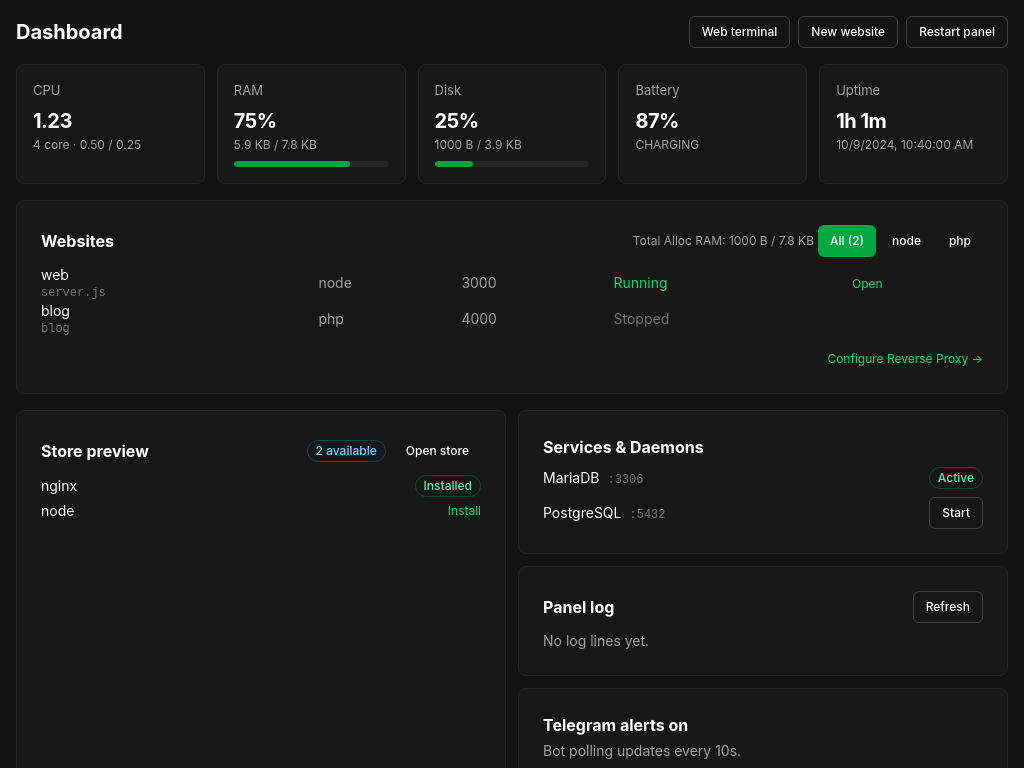
Test: web dashboard page › starts stopped daemons and surfaces errors
This screenshot has width=1024, height=768.
Expected: the text "MariaDB" is shown, x1=543 y1=468 x2=599 y2=486
Expected: the text "Active" is shown, x1=929 y1=466 x2=983 y2=488
Click the button "Start": [956, 512] box x1=929 y1=496 x2=983 y2=528
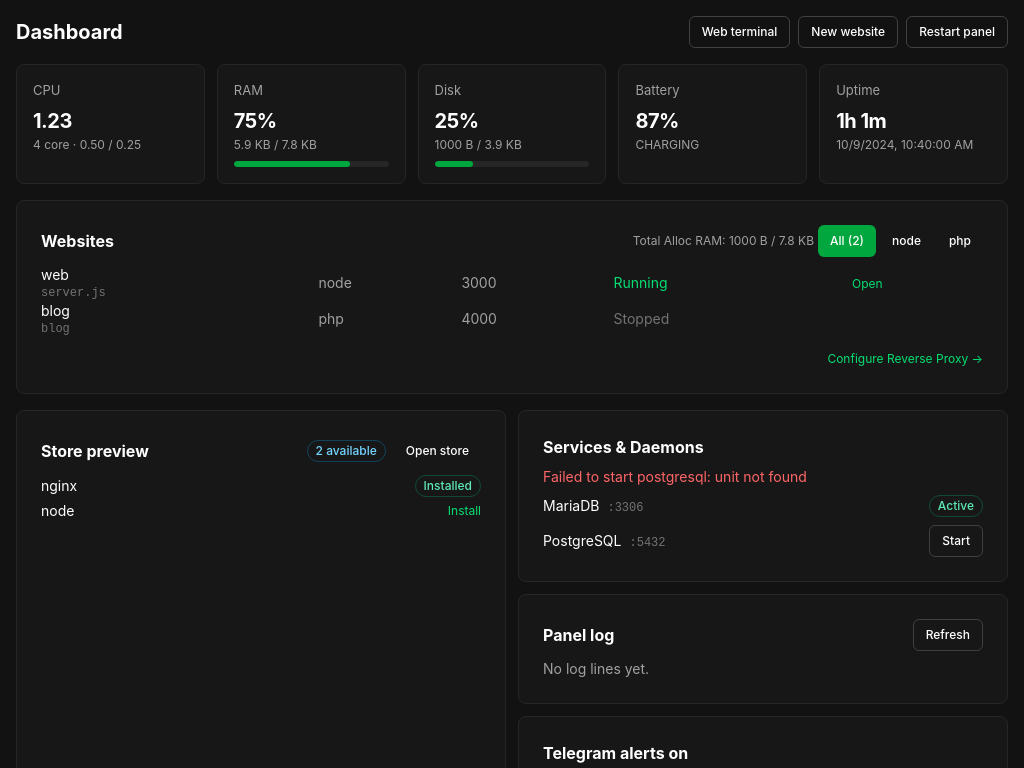
Now the text "Failed to start postgresql: unit not found" is shown, box x1=543 y1=468 x2=807 y2=484
